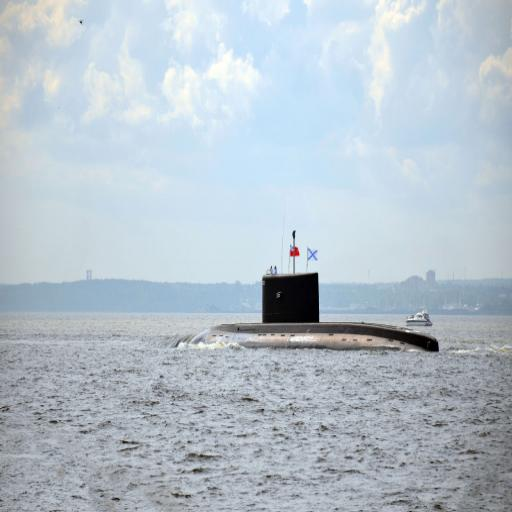submarine: (172, 268, 449, 356)
